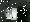person: (12, 9, 18, 21), (7, 7, 13, 19)
